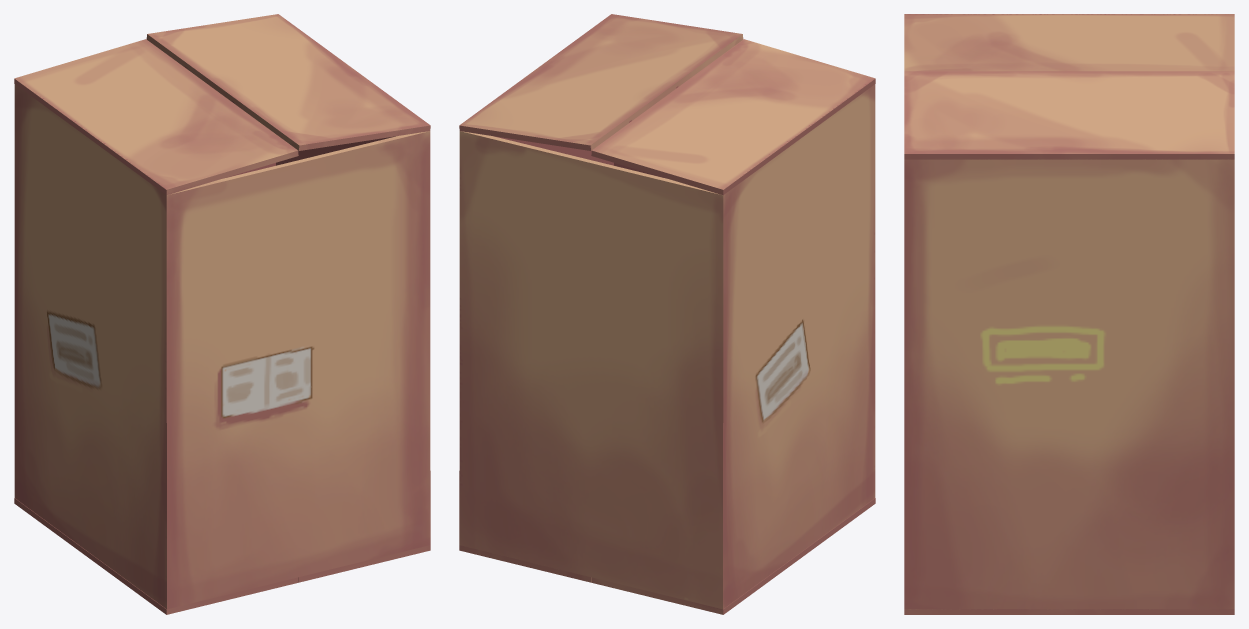
3 renders of one model, left to right at view 1: azimuth 30°, elevation 25°; view 2: azimuth 150°, elevation 25°; view 3: azimuth 270°, elevation 25°, orthographic. The views are drawn at different scales.
Parts seen in each view (by area): view 1: Box; view 2: Box; view 3: Box.
Boxes of the visible parts, <box> form: Box: <box>14,14,430,614</box>; Box: <box>459,14,875,614</box>; Box: <box>904,14,1234,614</box>.
Size of the model in its own units: 100 by 158 by 100.
Materials: 1 (1 with a texture image).
